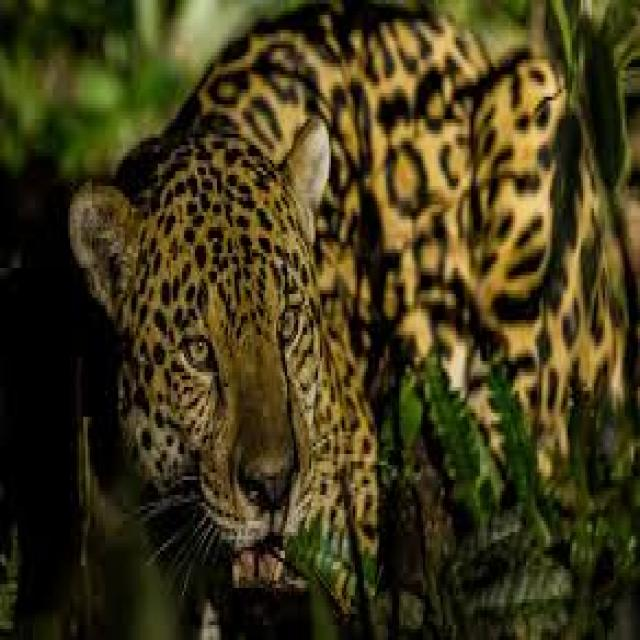Jaguar: (68, 0, 640, 592)
